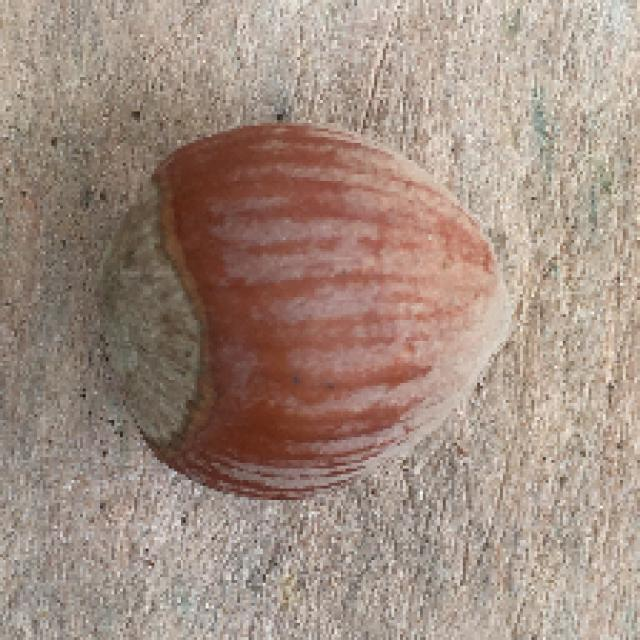qualityHazelnut: (78, 118, 516, 501)
